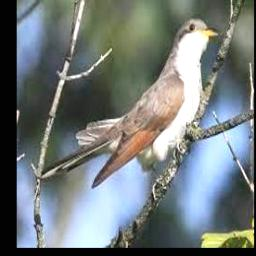Cuckoo: (76, 18, 219, 189)
